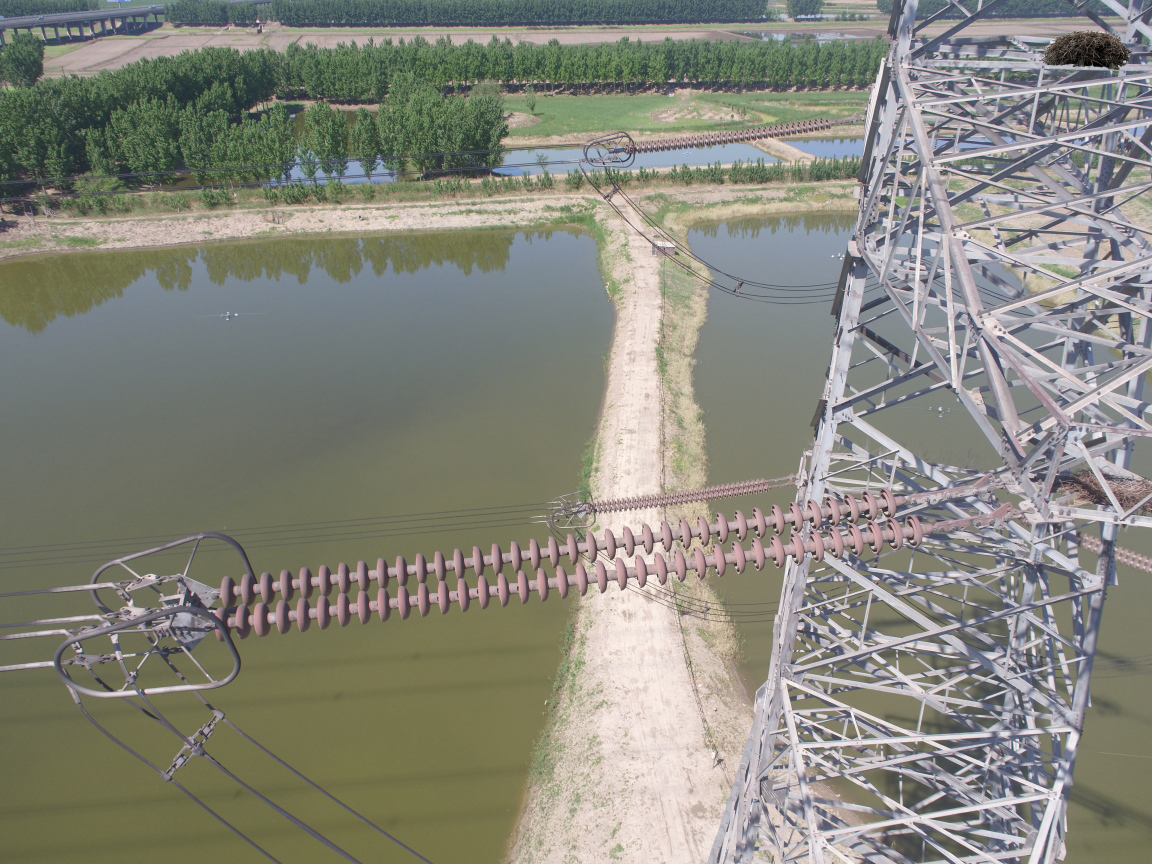nest: (1050, 461, 1152, 522), (1039, 23, 1133, 78)
